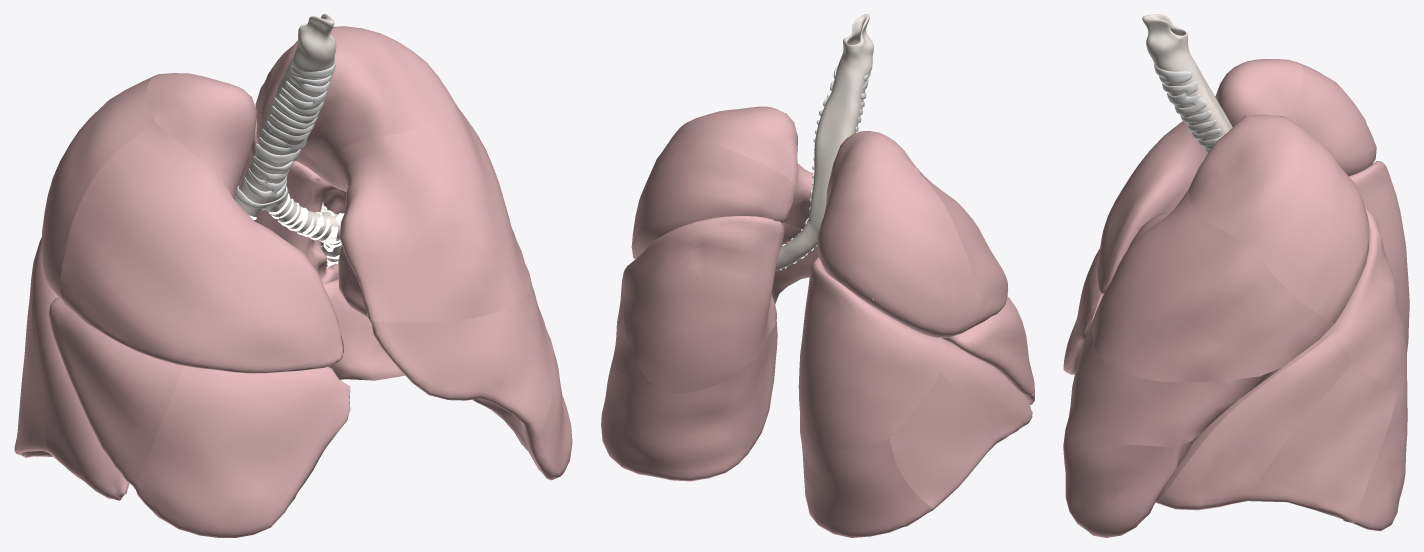
The model's file is lungs.glb.
3 views of the same model, side by side, from view 1: azimuth 30°, elevation 25°; view 2: azimuth 150°, elevation 25°; view 3: azimuth 270°, elevation 25° (orthographic). The views are drawn at different scales.
Visible parts, largest first — view 1: VH_M_right_anterior_bronchopulmonary_segment, VH_M_left_anterior_bronchopulmonary_segment, VH_M_right_medial_bronchopulmonary_segment, VH_M_left_lingula_superior_bronchopulmonary_segment, VH_M_left_apical_bronchopulmonary_segment, VH_M_right_lateral_bronchopulmonary_segment, VH_M_right_apical_bronchopulmonary_segment, VH_M_right_posterior_bronchopulmonary_segment, VH_M_right_anterior_basal_bronchopulmonary_segment, VH_M_trachea, VH_M_tracheal_cartilage, VH_M_left_lingula_inferior_bronchopulmonary_segment (+9 smaller); view 2: VH_M_left_superior_bronchopulmonary_segment, VH_M_right_posterior_bronchopulmonary_segment, VH_M_right_superior_bronchopulmonary_segment, VH_M_left_posetrior_basal_bronchopulmonary_segment, VH_M_left_posterior_bronchopulmonary_segment, VH_M_right_posterior_basal_bronchopulmonary_segment, VH_M_right_lateral_basal_bronchopulmonary_segment, VH_M_trachea, VH_M_left_apical_bronchopulmonary_segment, VH_M_right_anterior_basal_bronchopulmonary_segment, VH_M_right_lateral_bronchopulmonary_segment, VH_M_right_anterior_bronchopulmonary_segment (+5 smaller); view 3: VH_M_left_anterior_bronchopulmonary_segment, VH_M_left_lateral_basal_bronchopulmonary_segment, VH_M_left_posterior_bronchopulmonary_segment, VH_M_left_anterior_basal_bronchopulmonary_segment, VH_M_left_lingula_superior_bronchopulmonary_segment, VH_M_left_apical_bronchopulmonary_segment, VH_M_left_lingula_inferior_bronchopulmonary_segment, VH_M_right_anterior_bronchopulmonary_segment, VH_M_left_superior_bronchopulmonary_segment, VH_M_right_posterior_bronchopulmonary_segment, VH_M_right_apical_bronchopulmonary_segment, VH_M_left_posetrior_basal_bronchopulmonary_segment (+5 smaller).
Part boxes in pixels (x1,y1,x2,y2): VH_M_right_anterior_bronchopulmonary_segment: (60, 122, 343, 373); VH_M_left_anterior_bronchopulmonary_segment: (334, 103, 530, 322); VH_M_right_medial_bronchopulmonary_segment: (135, 366, 350, 537); VH_M_left_lingula_superior_bronchopulmonary_segment: (369, 276, 553, 436); VH_M_left_apical_bronchopulmonary_segment: (261, 26, 455, 178); VH_M_right_lateral_bronchopulmonary_segment: (49, 297, 184, 489); VH_M_right_apical_bronchopulmonary_segment: (147, 73, 256, 199); VH_M_right_posterior_bronchopulmonary_segment: (41, 75, 156, 304); VH_M_right_anterior_basal_bronchopulmonary_segment: (32, 289, 129, 500); VH_M_trachea: (239, 14, 336, 210); VH_M_tracheal_cartilage: (244, 61, 335, 198); VH_M_left_lingula_inferior_bronchopulmonary_segment: (339, 263, 572, 480); VH_M_left_superior_bronchopulmonary_segment: (624, 216, 784, 393); VH_M_right_posterior_bronchopulmonary_segment: (817, 163, 984, 337); VH_M_right_superior_bronchopulmonary_segment: (798, 257, 945, 449); VH_M_left_posetrior_basal_bronchopulmonary_segment: (601, 321, 777, 481); VH_M_left_posterior_bronchopulmonary_segment: (633, 130, 796, 255); VH_M_right_posterior_basal_bronchopulmonary_segment: (800, 414, 932, 537); VH_M_right_lateral_basal_bronchopulmonary_segment: (889, 372, 996, 509); VH_M_trachea: (808, 14, 873, 238); VH_M_left_apical_bronchopulmonary_segment: (673, 106, 798, 186); VH_M_right_anterior_basal_bronchopulmonary_segment: (940, 337, 1032, 443); VH_M_right_lateral_bronchopulmonary_segment: (942, 296, 1033, 396); VH_M_right_anterior_bronchopulmonary_segment: (916, 168, 1008, 320); VH_M_left_anterior_bronchopulmonary_segment: (1092, 189, 1334, 382); VH_M_left_lateral_basal_bronchopulmonary_segment: (1248, 361, 1396, 523); VH_M_left_posterior_bronchopulmonary_segment: (1254, 143, 1369, 322); VH_M_left_anterior_basal_bronchopulmonary_segment: (1155, 332, 1352, 510); VH_M_left_lingula_superior_bronchopulmonary_segment: (1063, 319, 1328, 463); VH_M_left_apical_bronchopulmonary_segment: (1188, 114, 1322, 248); VH_M_left_lingula_inferior_bronchopulmonary_segment: (1064, 434, 1200, 537); VH_M_right_anterior_bronchopulmonary_segment: (1096, 121, 1206, 293); VH_M_left_superior_bronchopulmonary_segment: (1331, 207, 1407, 397); VH_M_right_posterior_bronchopulmonary_segment: (1286, 62, 1376, 175); VH_M_right_apical_bronchopulmonary_segment: (1205, 59, 1303, 154); VH_M_left_posetrior_basal_bronchopulmonary_segment: (1353, 393, 1407, 531).
Size of the model in its own units: 0.2594 by 0.2745 by 0.1897.
